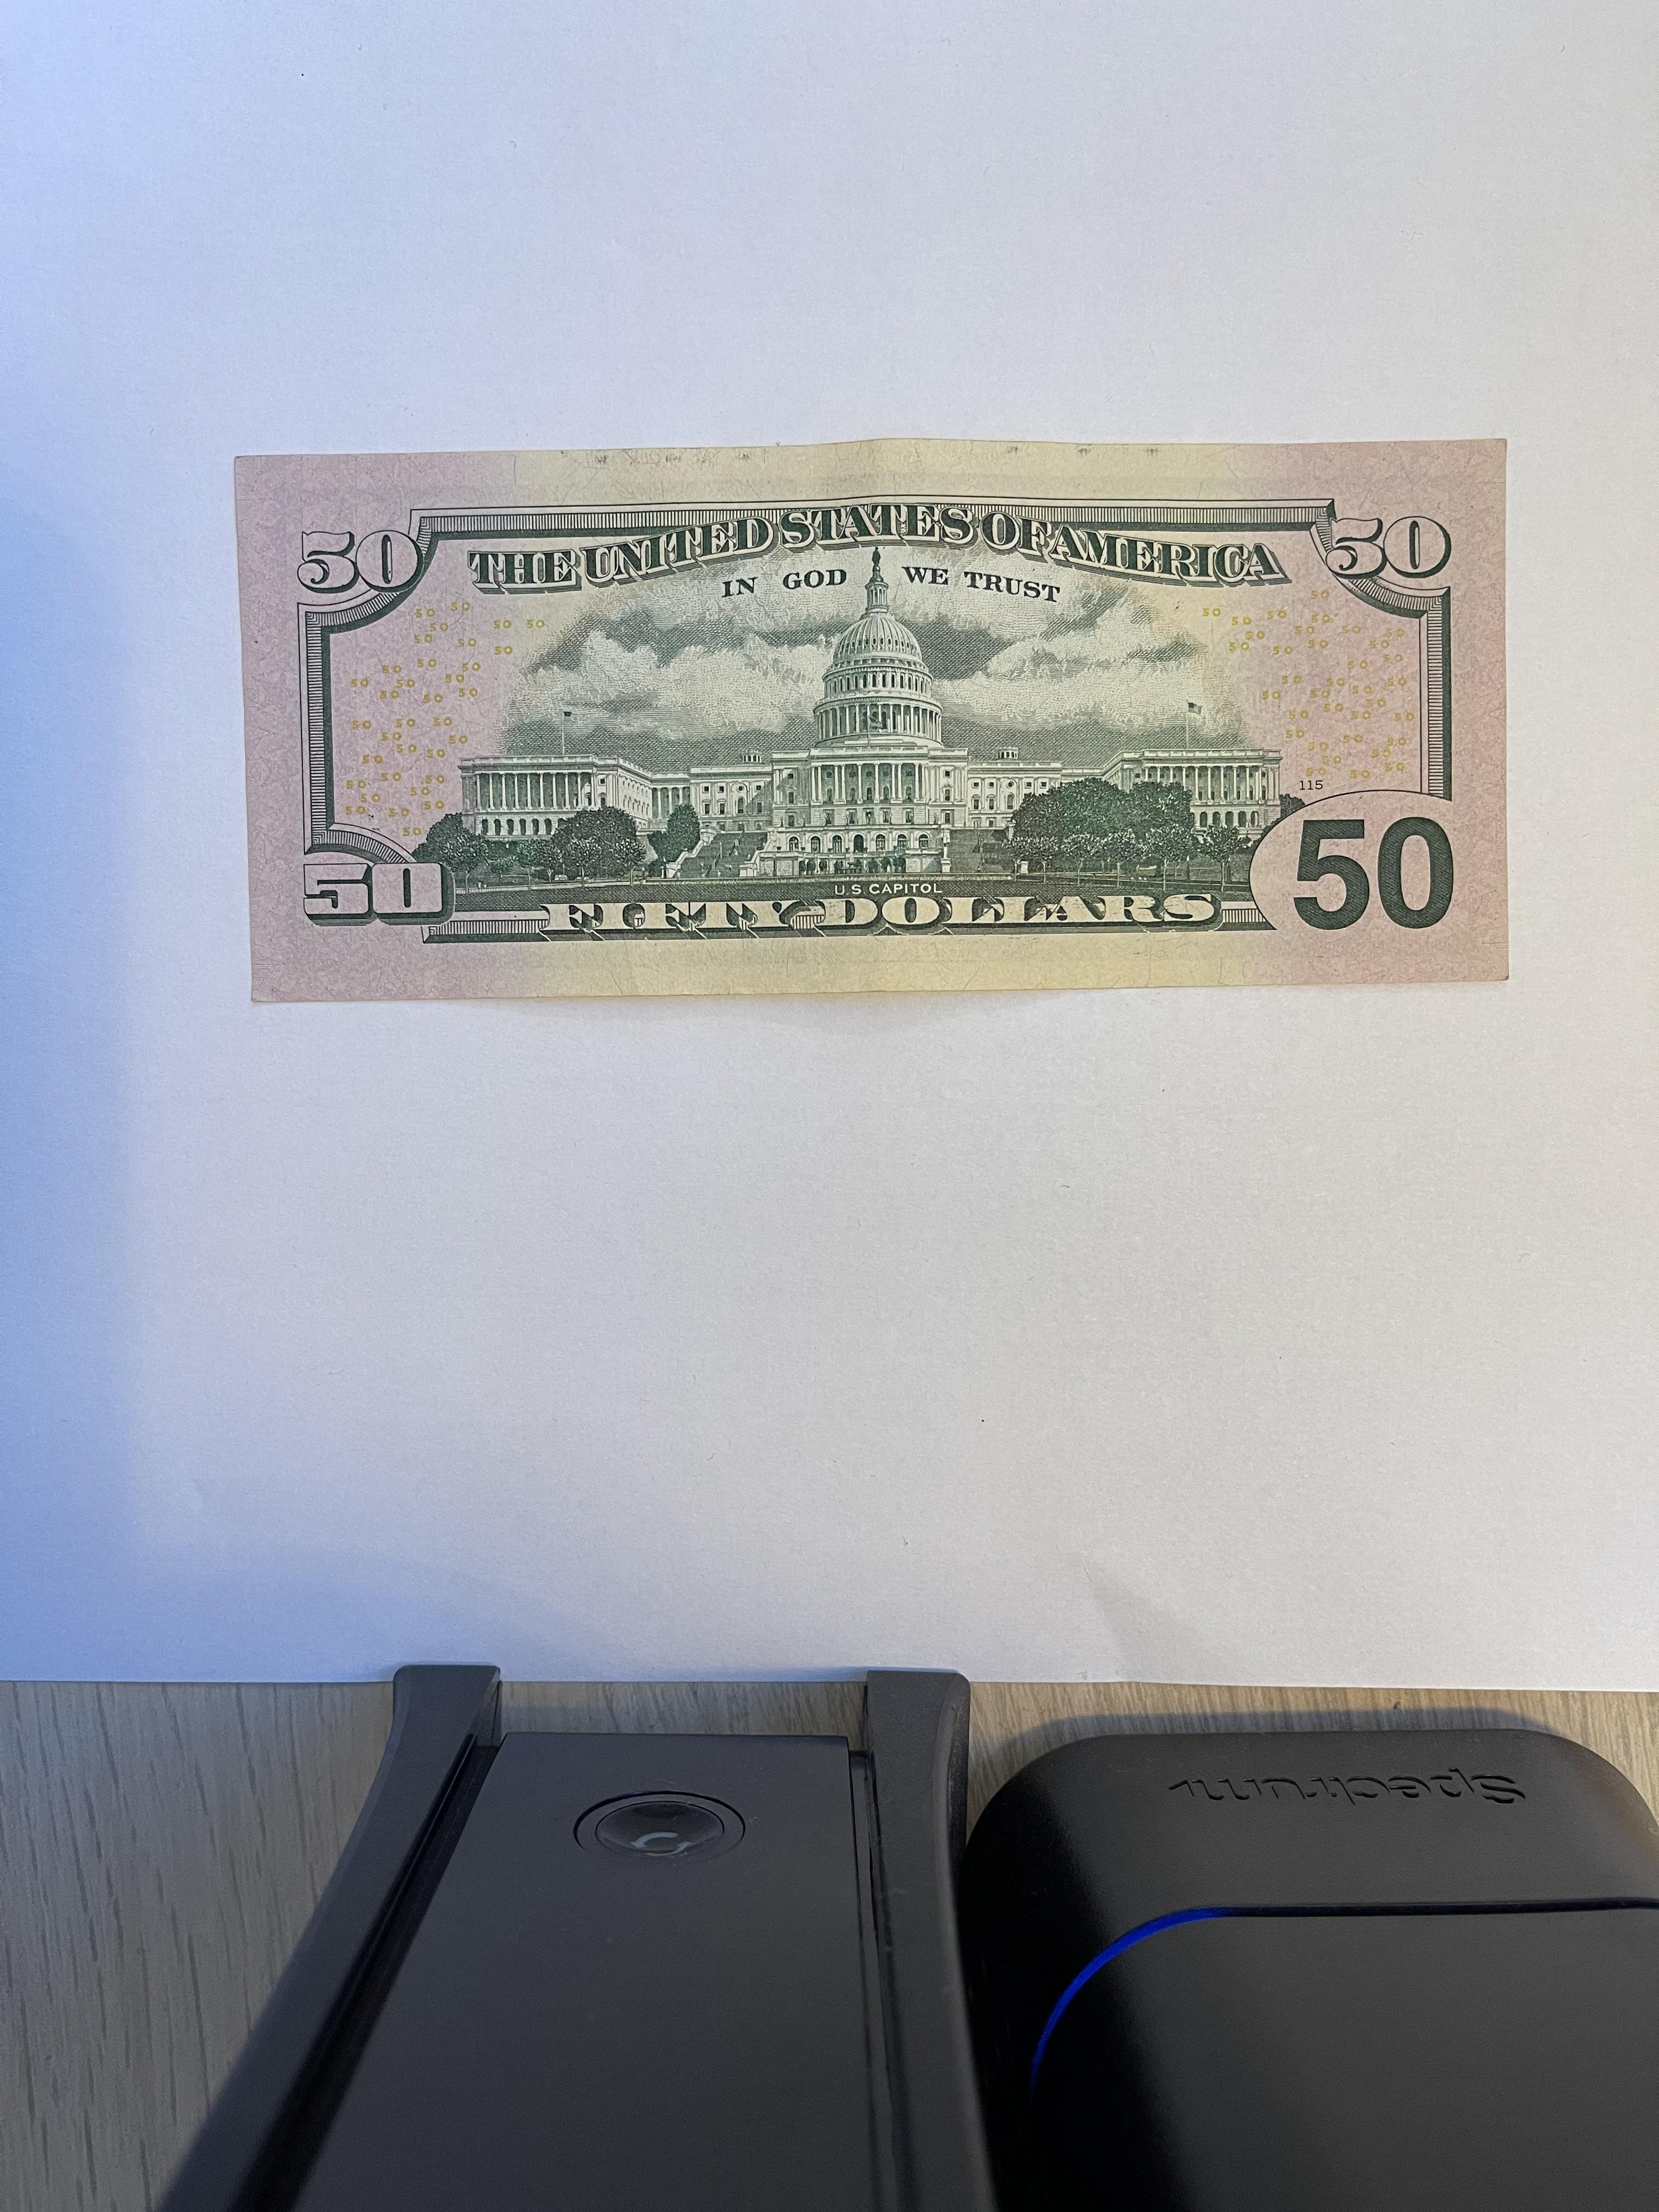FiftyBill: (232, 435, 1509, 1008)
